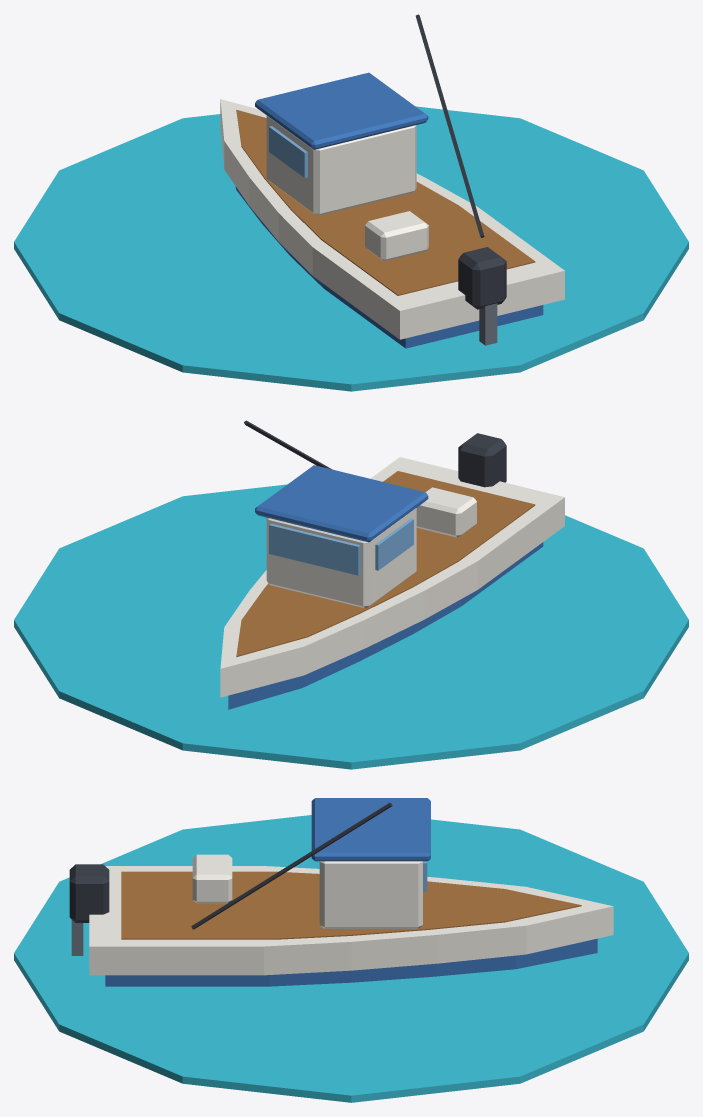
Rendered from barco_pesca.glb.
3 renders of one model, top to bottom at view 1: azimuth 30°, elevation 25°; view 2: azimuth 150°, elevation 25°; view 3: azimuth 270°, elevation 25°, orthographic.
Visible parts, largest first — view 1: corpo; view 2: corpo; view 3: corpo.
Boxes of the visible parts, x1,y1,x2,y2 form: corpo: [14, 14, 688, 391]; corpo: [14, 420, 688, 769]; corpo: [14, 798, 688, 1102].
Bounding box in the file's own units: 1.7 × 0.5947 × 1.7.
